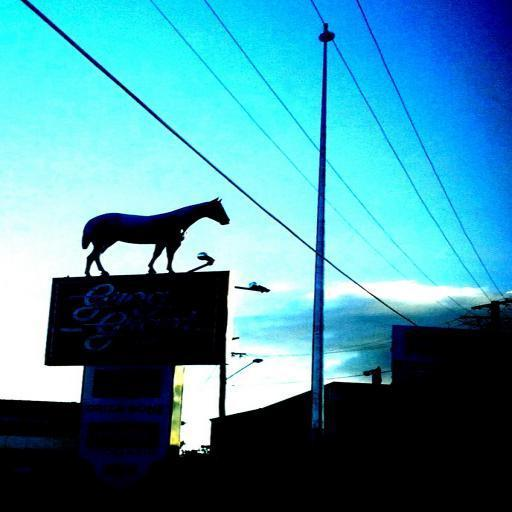horse: (78, 194, 230, 277)
